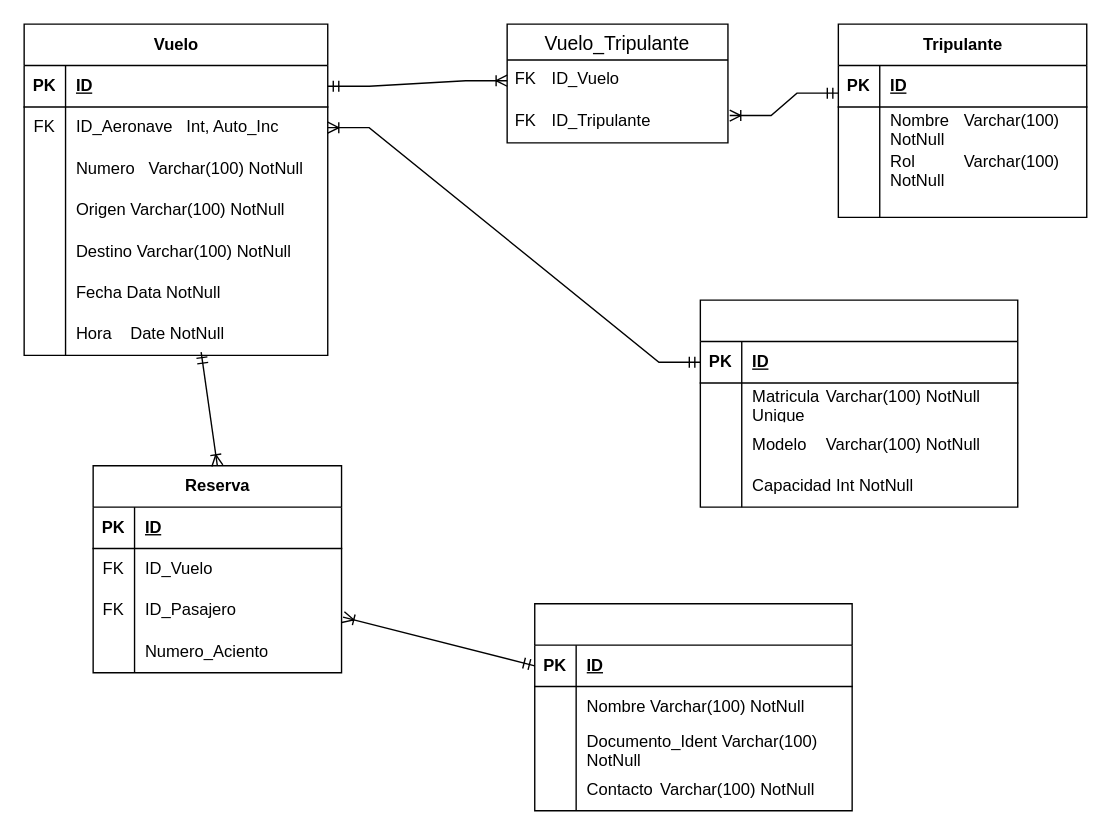
Image size: 1111x835. Some labels were removed from this diagram. The box of each missing label's shape, as (x1, y1, x2, y2) in pixels:
Aeronave: (699, 299, 1018, 507)
Pasajero: (533, 602, 852, 811)
